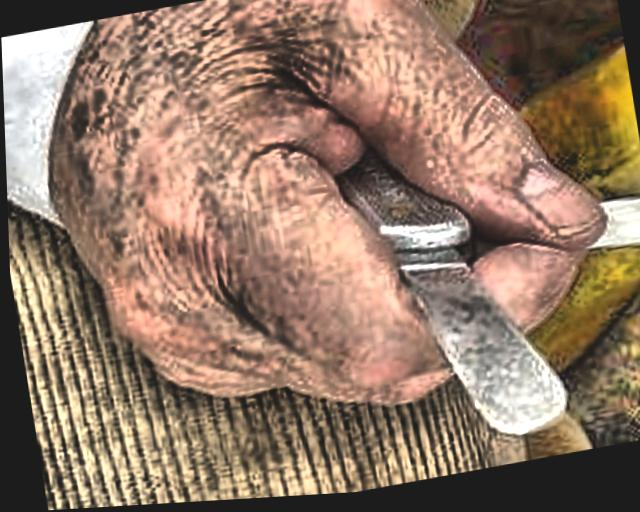knife: (286, 109, 587, 472)
